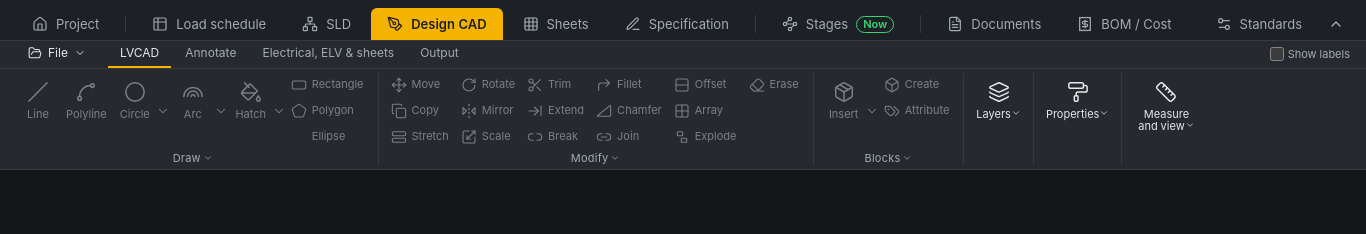
Scenario: Design CAD ribbon: the main tools named, every tool's name on hover › shows the tooltip of a greyed tool too; running along the icons, the next shows at once
The image size is (1366, 234).
Hover over the button "Line": (38, 111) [16, 73, 60, 149]
Wait 400 ms
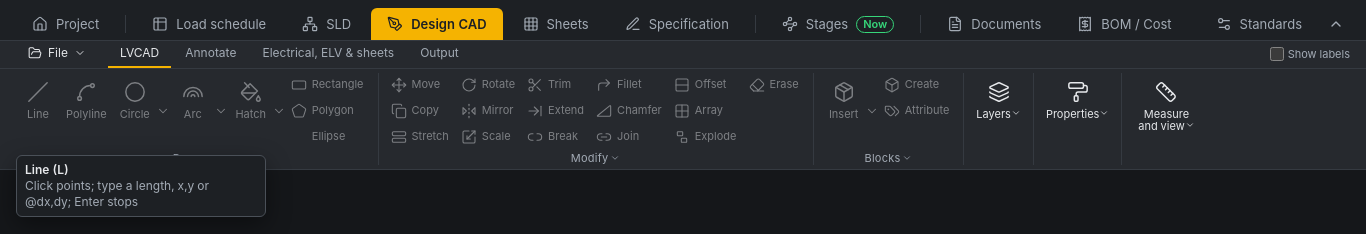
Check: the text "Line (L)" is shown, box [25, 162, 69, 177]
Move the pointer off the button "Line", box [16, 73, 60, 149]
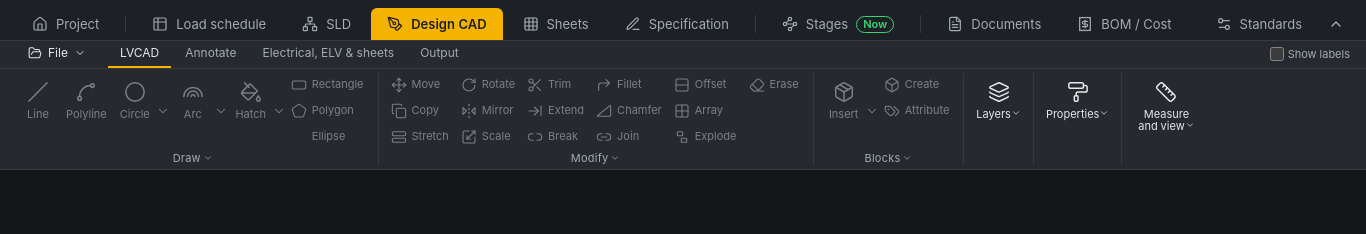
Hover over the button "Polyline": (86, 111) [62, 73, 111, 149]
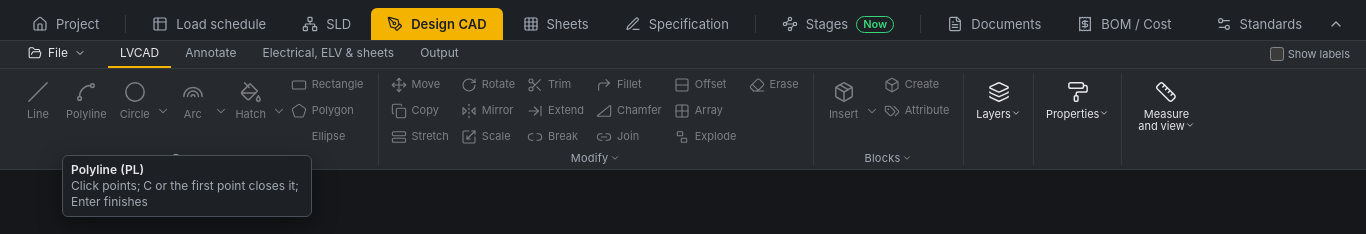
Check: the text "Polyline (PL)" is shown, box [71, 162, 144, 177]
Move the pointer off the button "Polyline", box [62, 73, 111, 149]
Wait 600 ms
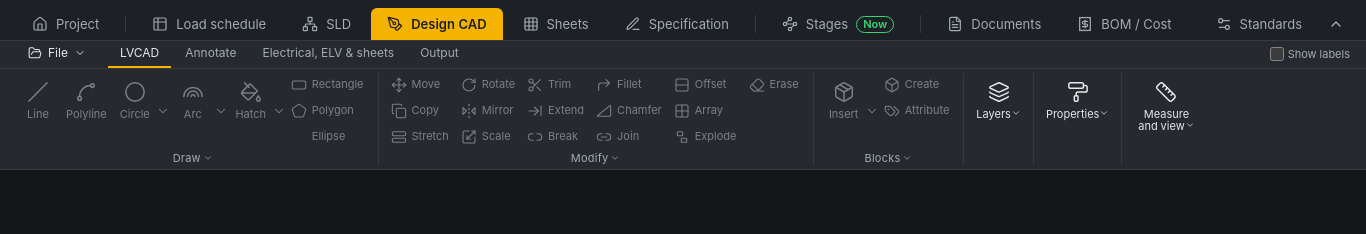
Hover over the button "Line": (38, 111) [16, 73, 60, 149]
Wait 400 ms
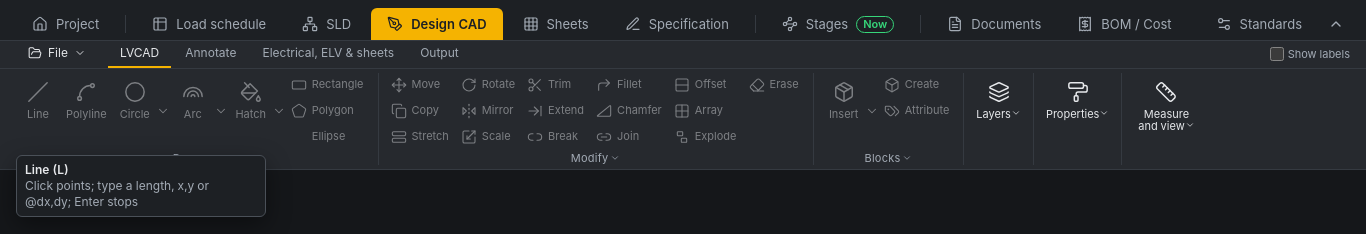
Check: the text "Line (L)" is shown, box [25, 162, 69, 177]
